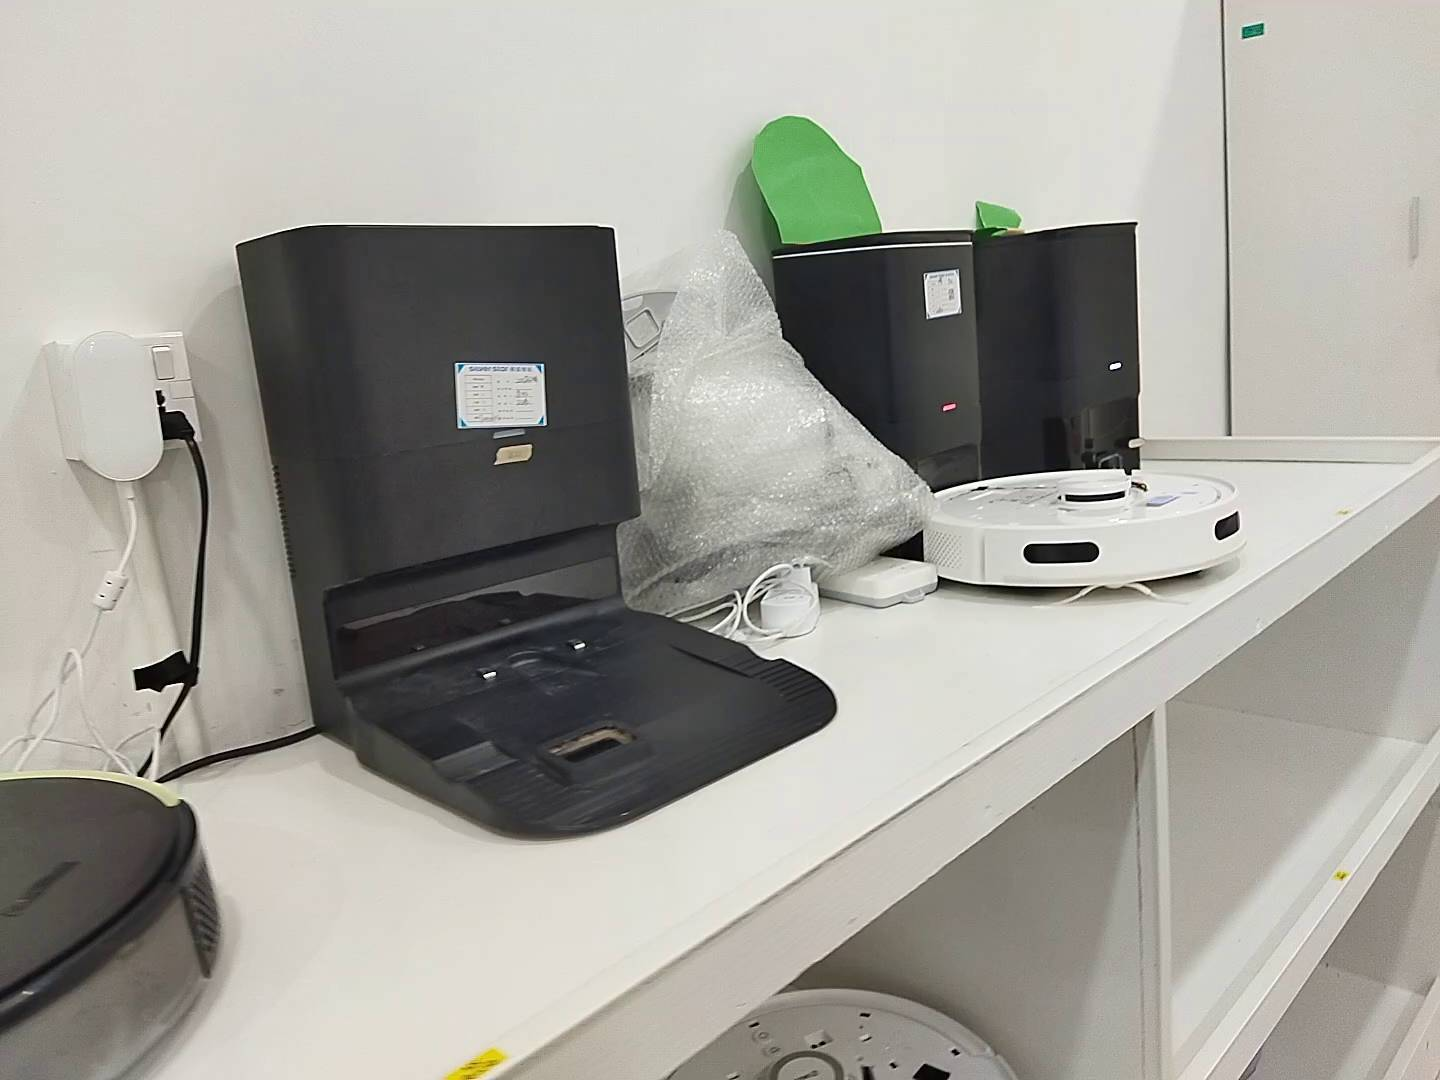dust collecting barrel: (236, 225, 837, 842), (772, 231, 981, 489), (979, 218, 1140, 472)
